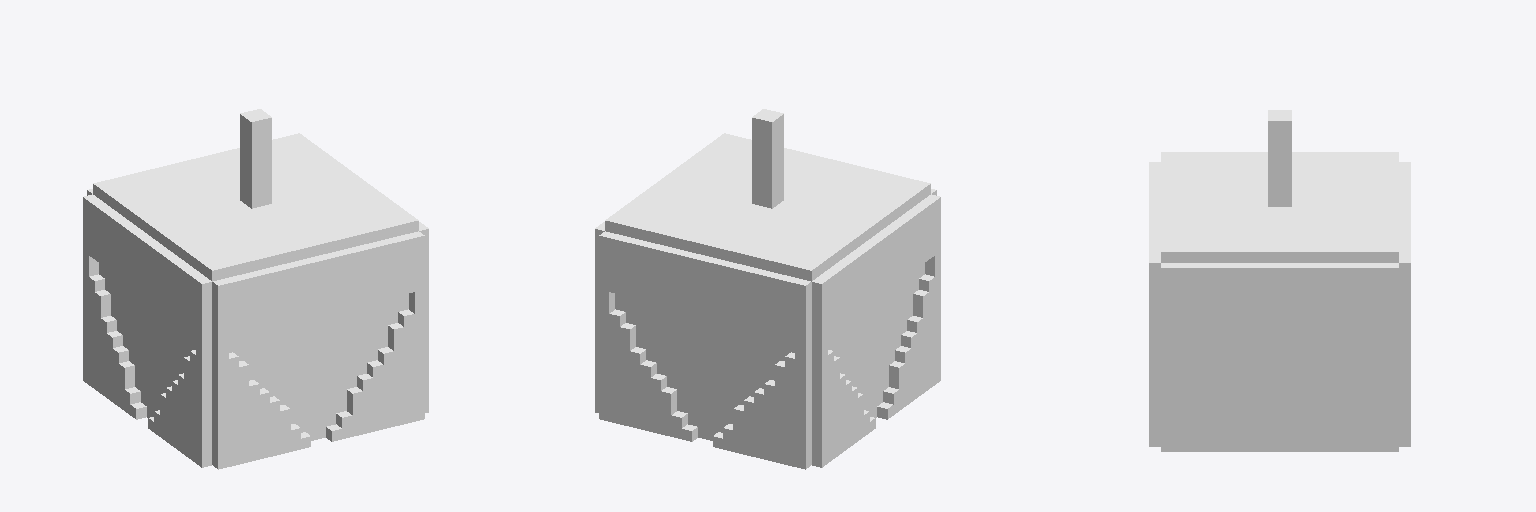
The model's file is Imprimante-5-Imprimante.obj.
3 views of the same model, side by side, from view 1: azimuth 30°, elevation 25°; view 2: azimuth 150°, elevation 25°; view 3: azimuth 270°, elevation 25° (orthographic).
Visible parts, largest first — view 1: Imprimante; view 2: Imprimante; view 3: Imprimante.
Part boxes in pixels (bbox=[...]): Imprimante: bbox=[83, 109, 428, 469]; Imprimante: bbox=[595, 109, 940, 469]; Imprimante: bbox=[1149, 110, 1410, 451].
Bounding box in the file's own units: 2.2 × 2.6 × 2.2.